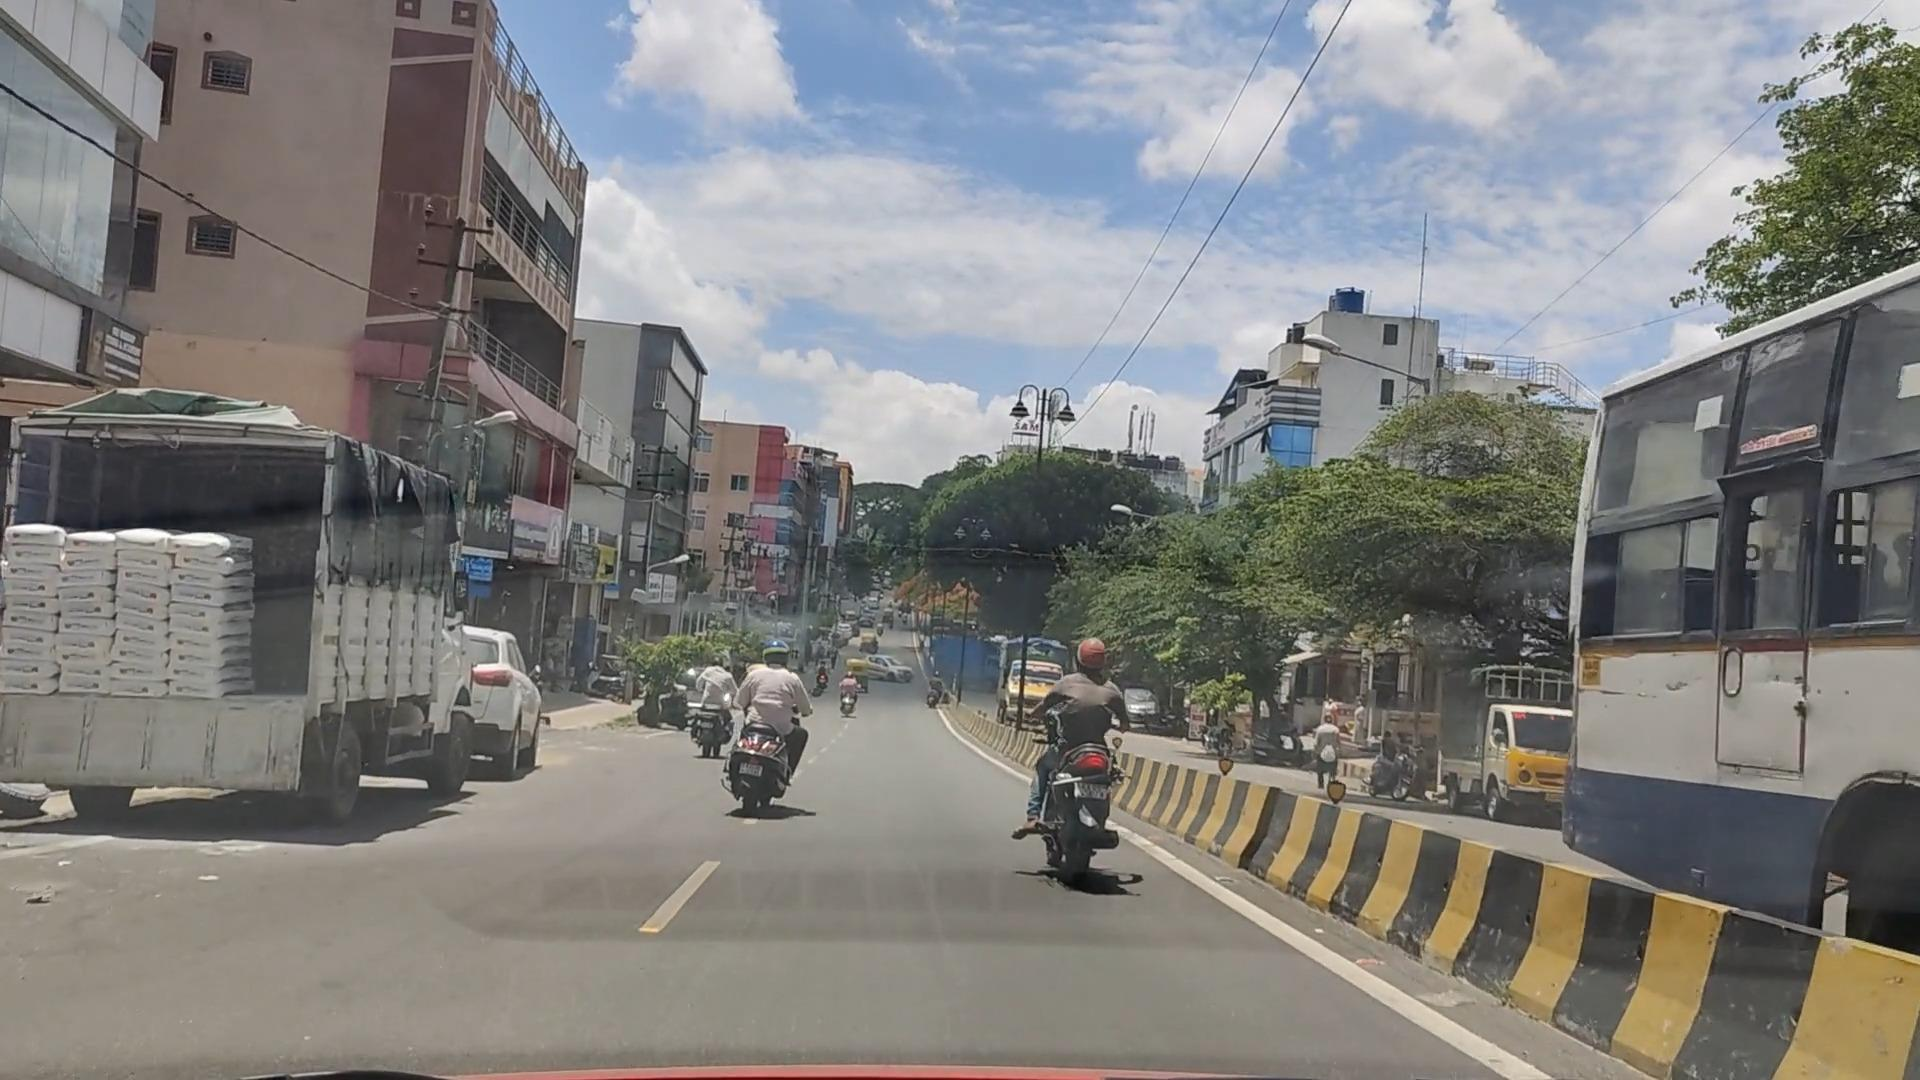HMV: (5, 368, 492, 808)
LMV: (996, 628, 1182, 926), (686, 603, 810, 824)
